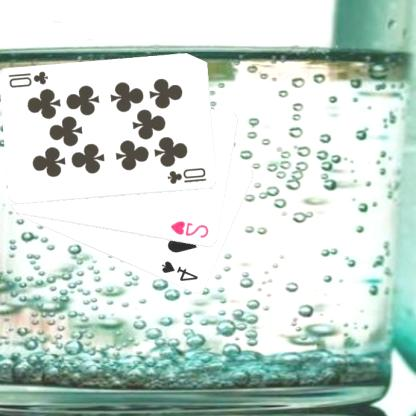10C: (8, 68, 51, 90), (166, 165, 210, 186)
2H: (170, 218, 212, 240)
4S: (160, 258, 202, 283)
